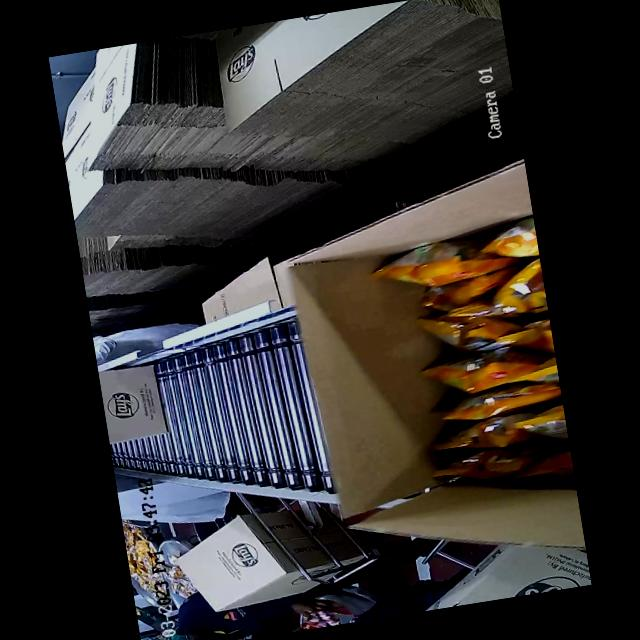cheese: (398, 229, 574, 496)
